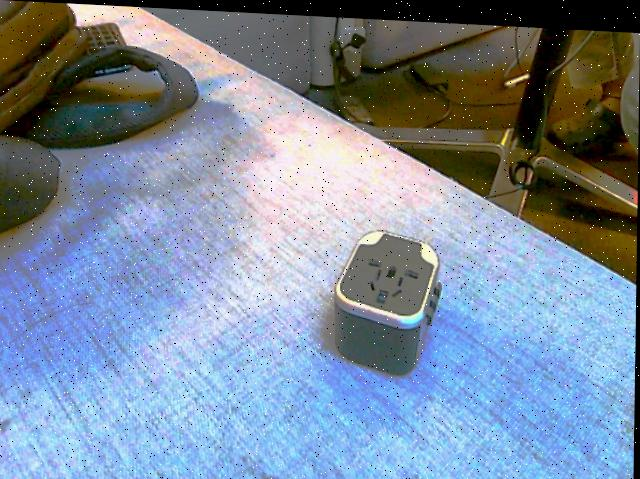adapter: (332, 223, 443, 373)
